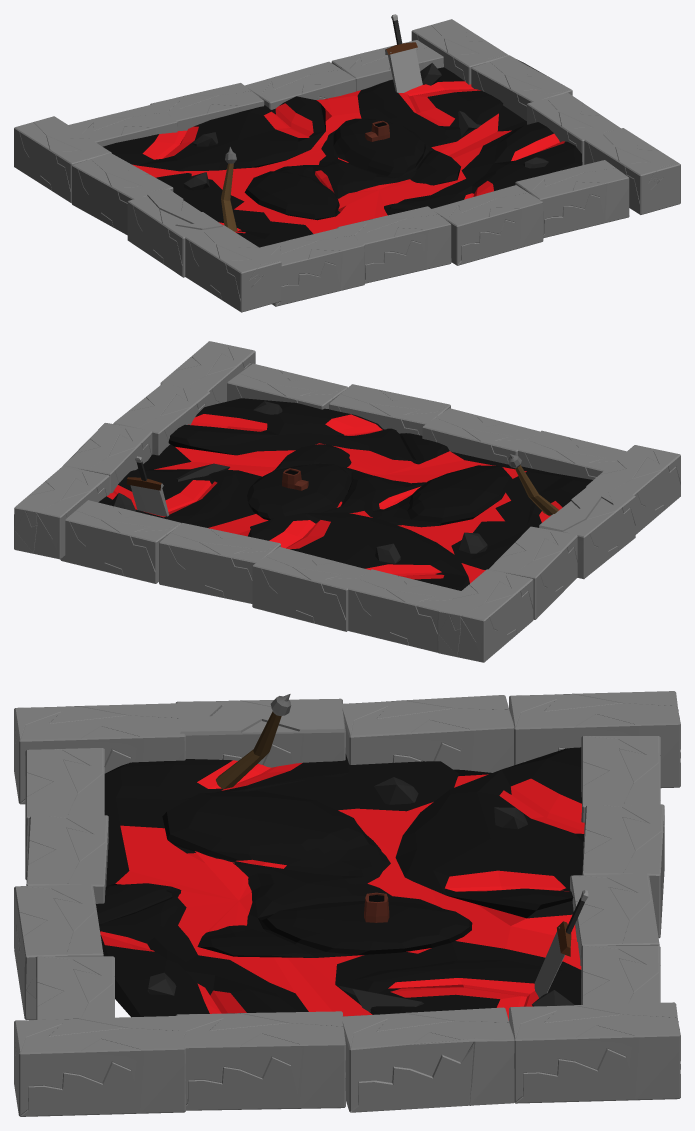
The model's file is firetrap2.fbx.
3 views of the same model, one above another, from view 1: azimuth 30°, elevation 25°; view 2: azimuth 150°, elevation 25°; view 3: azimuth 270°, elevation 25° (orthographic). The views are drawn at different scales.
Visible parts, largest first — view 1: Cube.017, Cube.012, Cube.006, Cube.005, Cube.007, Cube.008, Cube.016, Cube.011, Cube.009, Cube.010, Cube.014, Cube.002 (+7 smaller); view 2: Cube.017, Cube.003, Cube.009, Cube.002, Cube.001, Cube.004, Cube.013, Cube.011, Cube.010, Cube.012, Cube.007, Cube.006 (+7 smaller); view 3: Cube.017, Cube.016, Cube.014, Cube.013, Cube.015, Cube.010, Cube.009, Cube.011, Cube.012, Cube.006, Cube.003, Cube.007 (+10 smaller).
Boxes of the visible parts, x1,y1,x2,y2 form: Cube.017: (103, 67, 582, 247); Cube.012: (185, 225, 281, 312); Cube.006: (431, 185, 543, 265); Cube.005: (515, 160, 629, 238); Cube.007: (337, 206, 451, 283); Cube.008: (259, 228, 364, 306); Cube.016: (584, 128, 680, 214); Cube.011: (127, 189, 223, 277); Cube.009: (14, 116, 111, 203); Cube.010: (72, 153, 173, 235); Cube.014: (471, 55, 572, 120); Cube.002: (244, 61, 355, 109); Cube.017: (98, 398, 592, 590); Cube.003: (252, 547, 371, 631); Cube.009: (437, 569, 533, 662); Cube.002: (159, 523, 280, 603); Cube.001: (60, 500, 181, 583); Cube.004: (348, 569, 460, 652); Cube.013: (14, 466, 109, 559); Cube.011: (539, 484, 635, 579); Cube.010: (488, 526, 577, 619); Cube.012: (586, 445, 680, 534); Cube.007: (422, 408, 541, 464); Cube.006: (329, 384, 450, 435); Cube.017: (96, 747, 584, 1020); Cube.016: (14, 1016, 185, 1116); Cube.014: (342, 1007, 514, 1112); Cube.013: (509, 1002, 680, 1103); Cube.015: (175, 1011, 345, 1110); Cube.010: (342, 695, 514, 772); Cube.009: (509, 691, 680, 788); Cube.011: (176, 698, 345, 767); Cube.012: (14, 703, 185, 804); Cube.006: (14, 884, 103, 1019); Cube.003: (582, 803, 664, 938); Cube.007: (26, 814, 108, 903).
Bounding box in the file's own units: 489 × 94.22 × 380.
